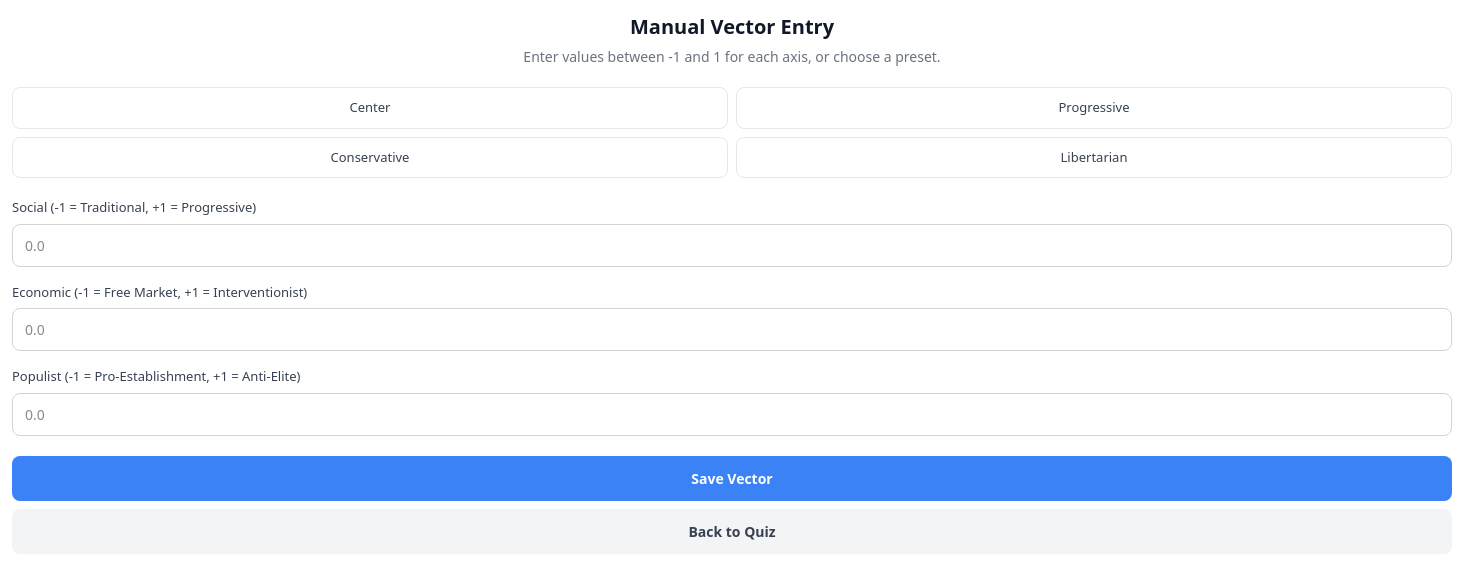
it: ManualEntry › fills inputs with conservative preset
This screenshot has width=1464, height=571.
Click the button with test id "preset-conservative" at (370, 157), box [12, 136, 728, 178]
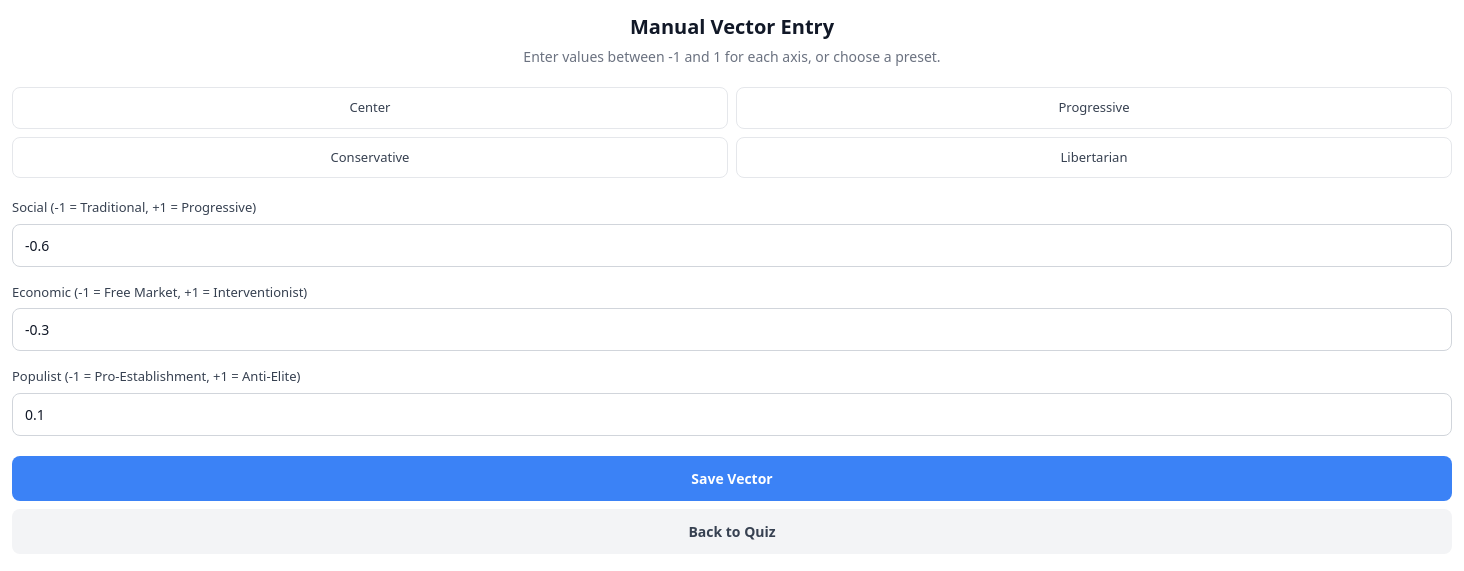
Expected: the number field with test id "manual-social-input" holds "-0.6", [12, 224, 1452, 266]
Expected: the number field with test id "manual-economic-input" holds "-0.3", [12, 308, 1452, 351]
Expected: the number field with test id "manual-populist-input" holds "0.1", [12, 392, 1452, 436]
